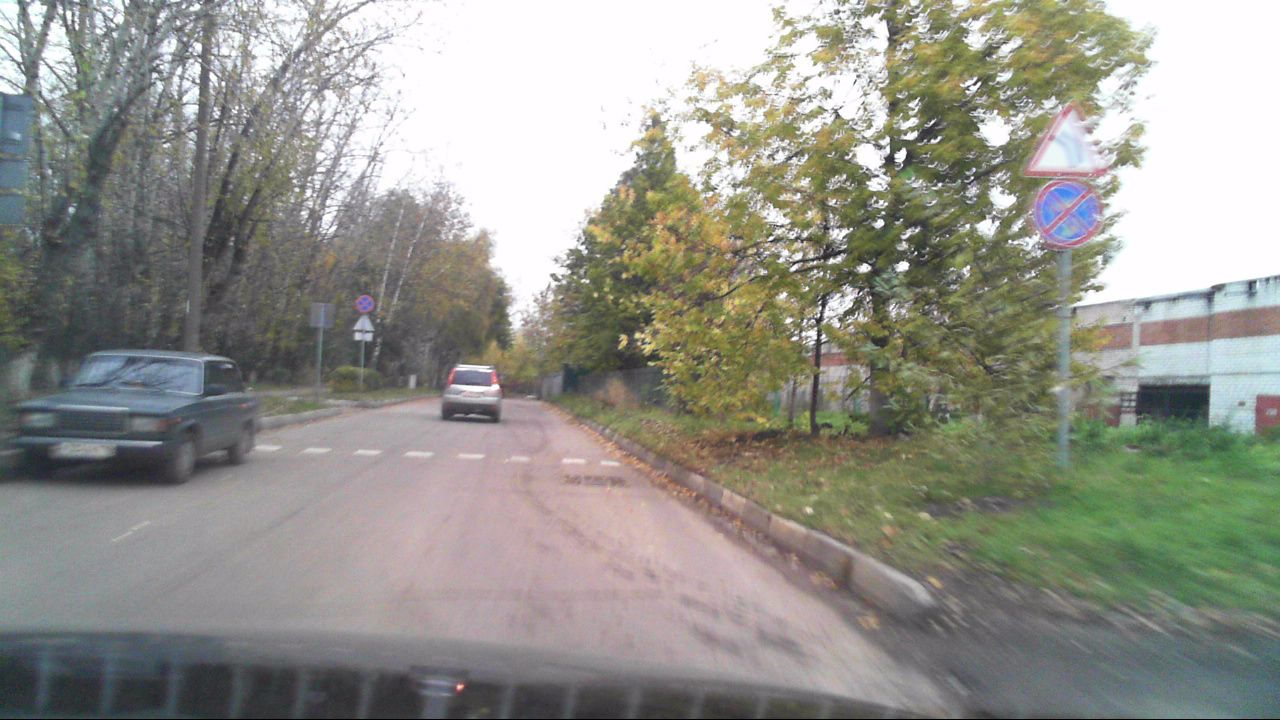No Parking: (1034, 178, 1102, 248)
